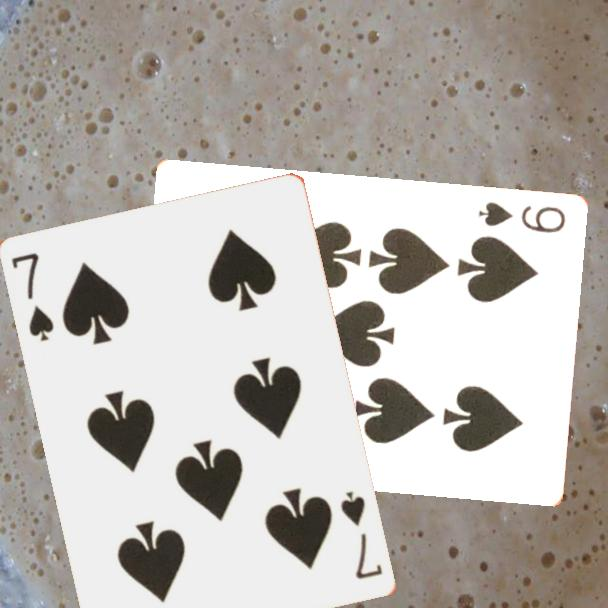s07: (8, 249, 58, 345), (337, 488, 386, 583)
s09: (474, 199, 568, 236)
